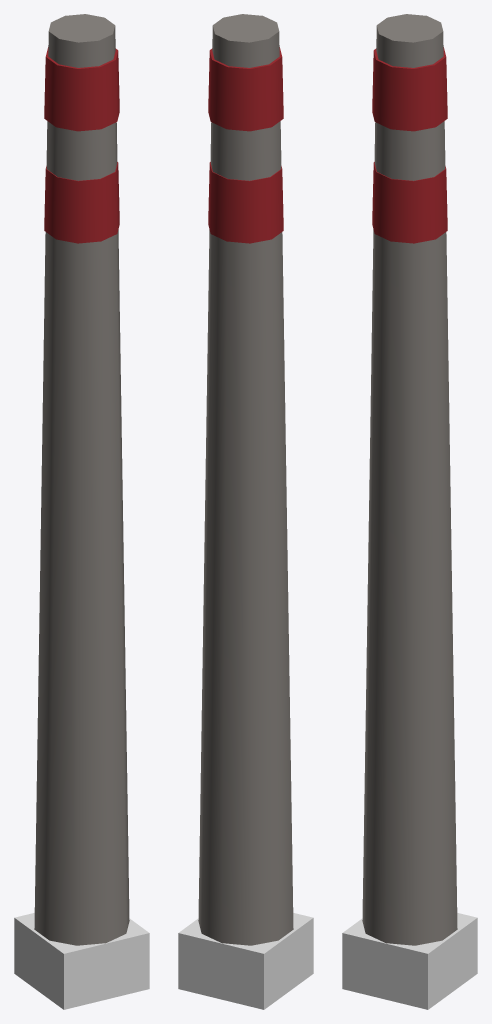
Rendered from factory-chimney.glb.
3 renders of one model, left to right at view 1: azimuth 30°, elevation 25°; view 2: azimuth 150°, elevation 25°; view 3: azimuth 330°, elevation 25°, orthographic.
Visible parts, largest first — view 1: 00_#8a8580, 01_#a3262c, solid; view 2: 00_#8a8580, 01_#a3262c, solid; view 3: 00_#8a8580, 01_#a3262c, solid.
Boxes of the visible parts, x1=… form: 00_#8a8580: x1=34, y1=14, x2=129, y2=945; 01_#a3262c: x1=44, y1=47, x2=119, y2=243; solid: x1=14, y1=913, x2=149, y2=1009; 00_#8a8580: x1=198, y1=14, x2=293, y2=945; 01_#a3262c: x1=208, y1=47, x2=283, y2=243; solid: x1=178, y1=913, x2=313, y2=1009; 00_#8a8580: x1=362, y1=14, x2=457, y2=945; 01_#a3262c: x1=372, y1=47, x2=447, y2=243; solid: x1=342, y1=913, x2=477, y2=1009.
Bounding box in the file's own units: 3.2 × 34 × 3.2.
